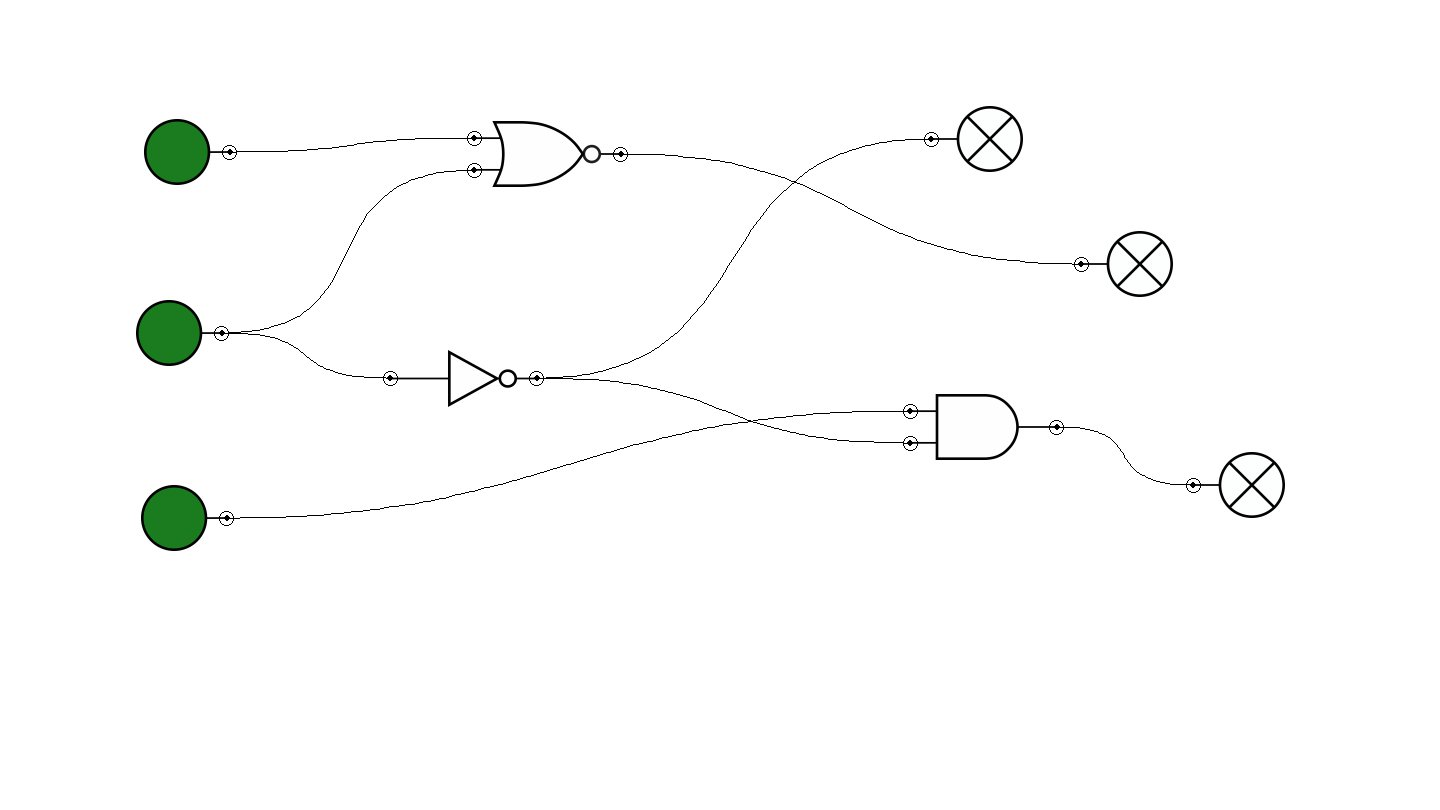and: (903, 394, 1064, 460)
bulb: (924, 106, 1023, 172), (1074, 231, 1173, 297), (1186, 452, 1285, 518)
nor: (467, 121, 628, 187)
not: (383, 350, 544, 407)
switch_True: (141, 485, 234, 551), (144, 119, 237, 185), (136, 300, 229, 366)
